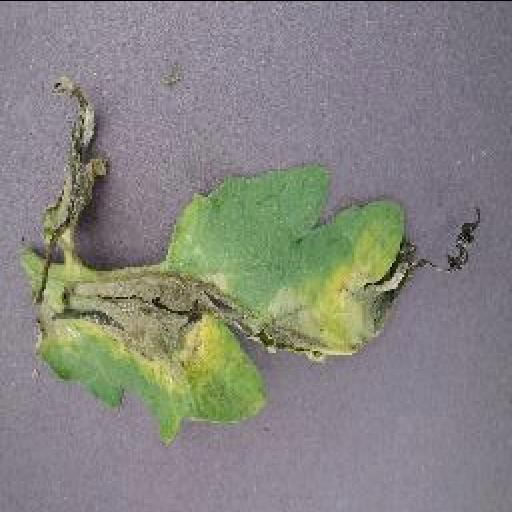disease_tomato: (16, 78, 484, 442)
